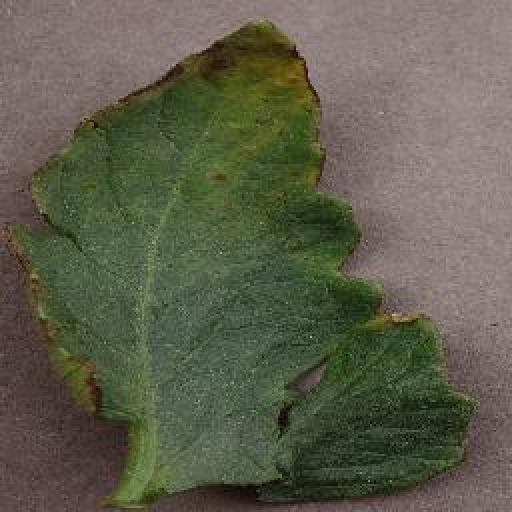Bacterial Spot: (0, 10, 478, 512)
